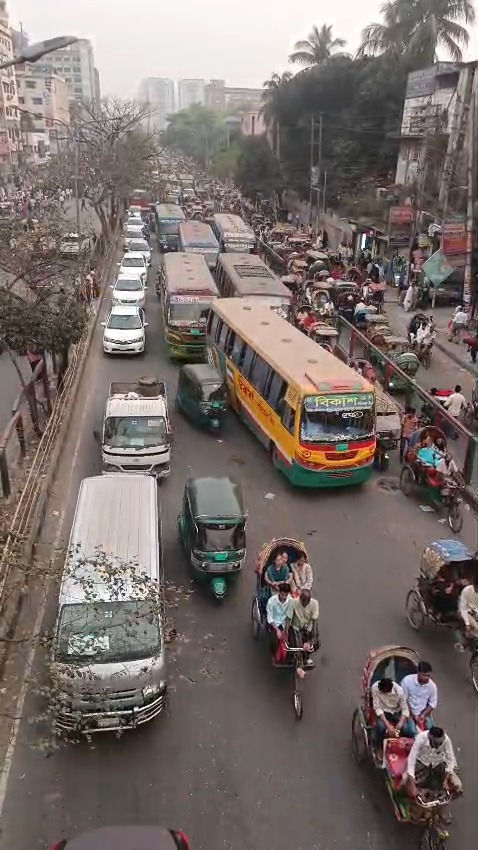Bus: (217, 302, 393, 486), (157, 229, 229, 358), (222, 232, 298, 326), (212, 204, 257, 256), (178, 215, 222, 263), (153, 195, 192, 242)
Pickup: (103, 365, 182, 484)
auto-ricksaw: (350, 635, 465, 850), (253, 527, 333, 715), (403, 504, 478, 671), (392, 415, 478, 535), (358, 308, 439, 385), (294, 269, 380, 329)
cng: (178, 469, 258, 616), (177, 354, 238, 443)
private car: (65, 472, 172, 771), (100, 195, 152, 364), (64, 229, 94, 261)
